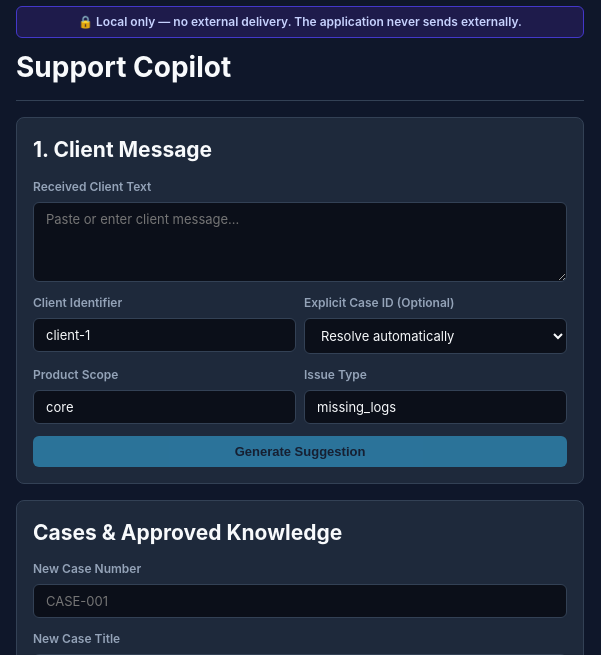
it: Desktop Overlay App Component › copy updates status to copied but does not send
Type "Query to copy" into the text box labelled "Received Client Text".
click(300, 242); type("Query to copy")  # box [33,202,567,282]
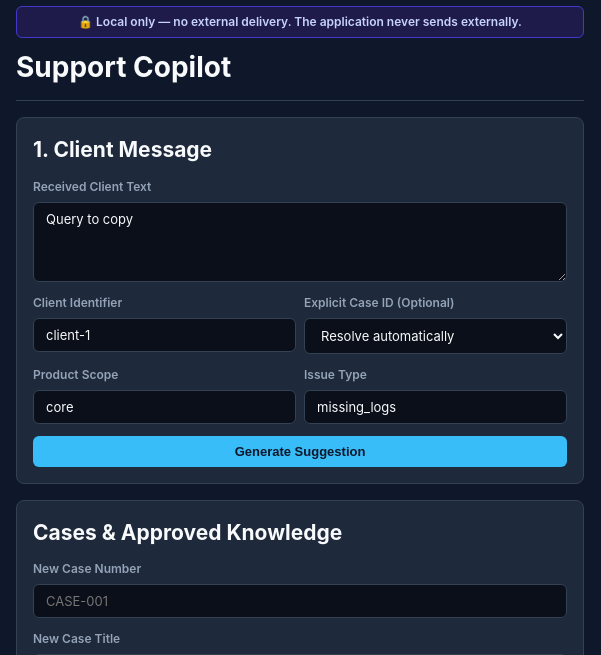
Click the button "Generate Suggestion".
click(300, 451)  # box [33,436,567,466]
(page scrolled)
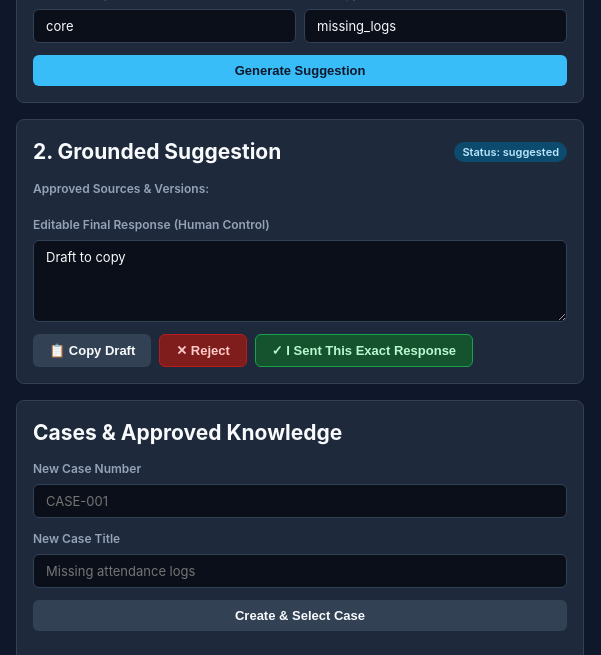
Expected: the button "📋 Copy Draft" is shown
Click the button "📋 Copy Draft".
click(92, 350)  # box [33,334,151,366]
(page scrolled)
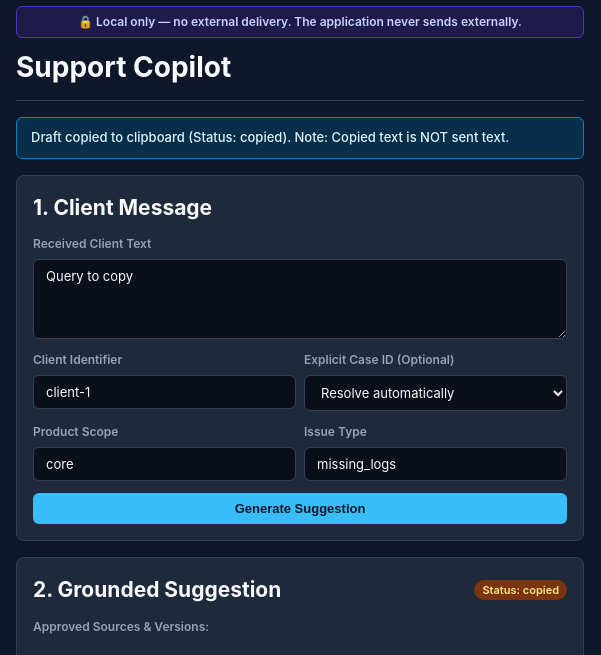
Expected: the text "Draft copied to clipboard" is shown, [31,129,509,145]
